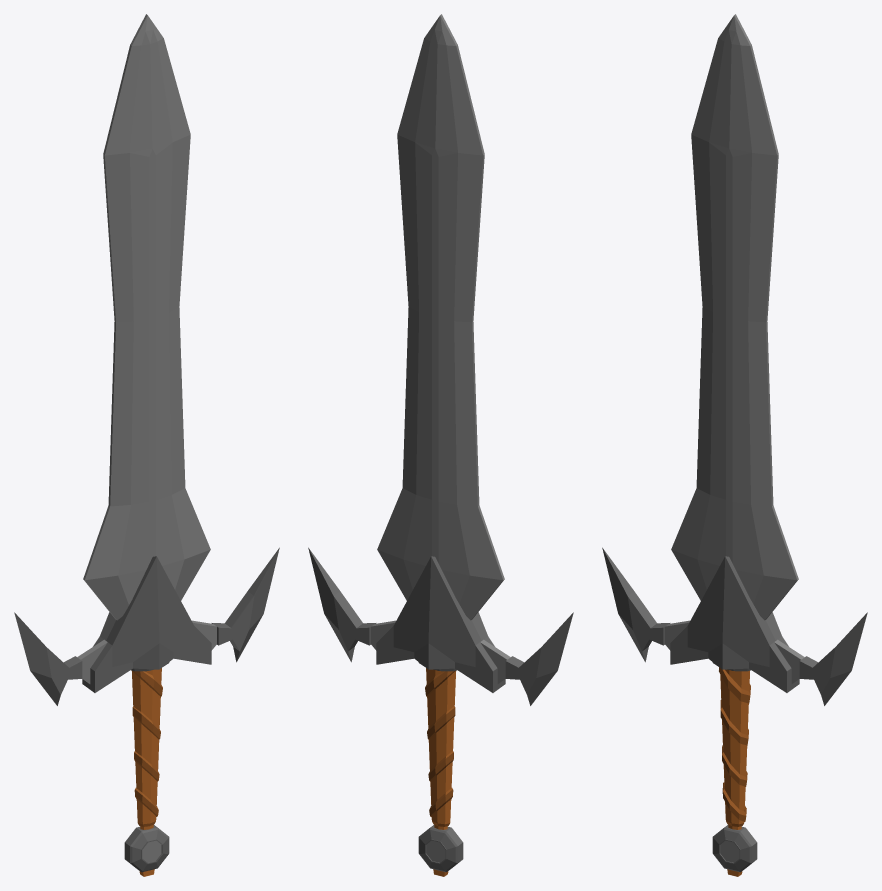
The model's file is sword_8.fbx.
3 renders of one model, left to right at view 1: azimuth 30°, elevation 25°; view 2: azimuth 150°, elevation 25°; view 3: azimuth 330°, elevation 25°, orthographic.
Parts seen in each view (by area): view 1: Sword; view 2: Sword; view 3: Sword.
Boxes of the visible parts, <box> form: Sword: <box>14,14,279,876</box>; Sword: <box>308,14,573,876</box>; Sword: <box>602,14,867,876</box>.
Bounding box in the file's own units: 114 × 351 × 18.5.
